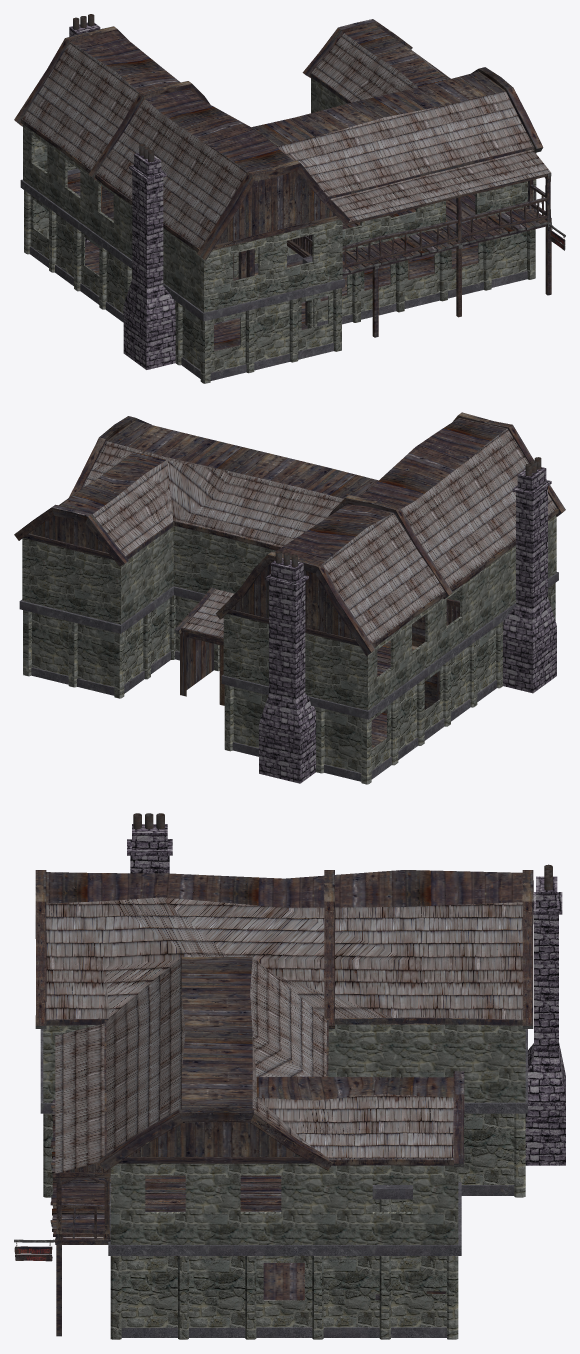
Rendered from commercial_6.fbx.
3 renders of one model, top to bottom at view 1: azimuth 30°, elevation 25°; view 2: azimuth 150°, elevation 25°; view 3: azimuth 270°, elevation 25°, orthographic. The views are drawn at different scales.
Visible parts, largest first — view 1: Roof, WallsLevel1, WallsLevel2, RoofWood, Balcony, Chimney, RoofFrame, Level3, Foundation, Floor, Level2Frame, UpperFloorMain (+3 smaller); view 2: Roof, WallsLevel2, WallsLevel1, RoofWood, ChimneyHearth, Chimney, RoofFrame, Level2Frame, Level3, Foundation, Pantry, PantryRoof (+5 smaller); view 3: Roof, WallsLevel2, WallsLevel1, RoofWood, RoofFrame, ChimneyHearth, Level2Frame, Balcony, Level3, Foundation, UpperFloorMain, Chimney (+3 smaller).
Boxes of the visible parts, x1,y1,x2,y2 form: Roof: (22, 33, 550, 248); WallsLevel1: (24, 190, 535, 383); WallsLevel2: (23, 78, 536, 312); RoofWood: (70, 25, 545, 223); Balcony: (342, 173, 551, 337); Chimney: (123, 143, 175, 369); RoofFrame: (14, 19, 542, 260); Level3: (216, 171, 335, 244); Foundation: (29, 246, 527, 380); Floor: (85, 241, 478, 351); Level2Frame: (20, 168, 536, 321); UpperFloorMain: (287, 194, 475, 279); Roof: (59, 428, 556, 643); WallsLevel2: (22, 515, 556, 710); WallsLevel1: (23, 583, 555, 784); RoofWood: (61, 418, 506, 581); ChimneyHearth: (259, 550, 315, 783); Chimney: (503, 457, 556, 693); RoofFrame: (14, 412, 565, 656); Level2Frame: (19, 572, 558, 719); Level3: (29, 515, 354, 639); Foundation: (31, 615, 496, 781); Pantry: (180, 631, 224, 705); PantryRoof: (182, 589, 234, 638); Roof: (46, 897, 522, 1173); WallsLevel2: (43, 1024, 525, 1244); WallsLevel1: (43, 1113, 525, 1339); RoofWood: (46, 870, 522, 1108); RoofFrame: (35, 870, 533, 1171); ChimneyHearth: (525, 864, 565, 1165); Level2Frame: (40, 1029, 527, 1255); Balcony: (50, 1025, 110, 1336); Level3: (127, 1122, 300, 1156); Foundation: (121, 1185, 514, 1337); UpperFloorMain: (145, 1175, 281, 1211); Chimney: (127, 813, 172, 873).
Bounding box in the file's own units: 3155 × 1632 × 2891.
8 materials, 8 textured.
